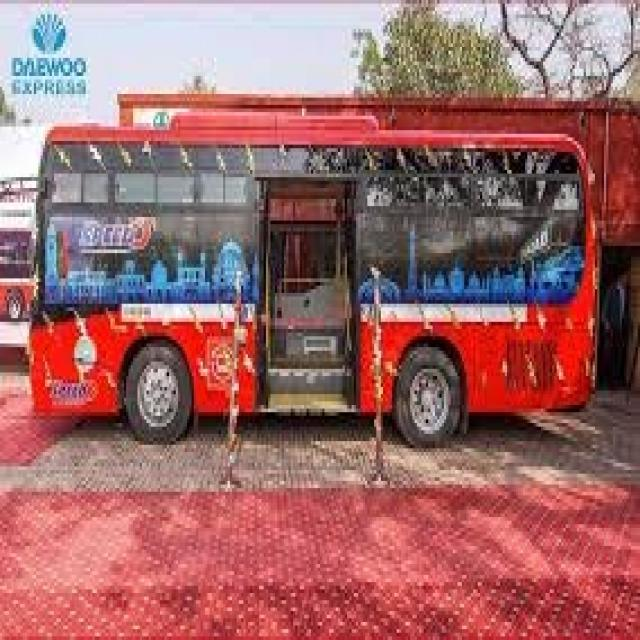bus: (29, 98, 611, 468)
